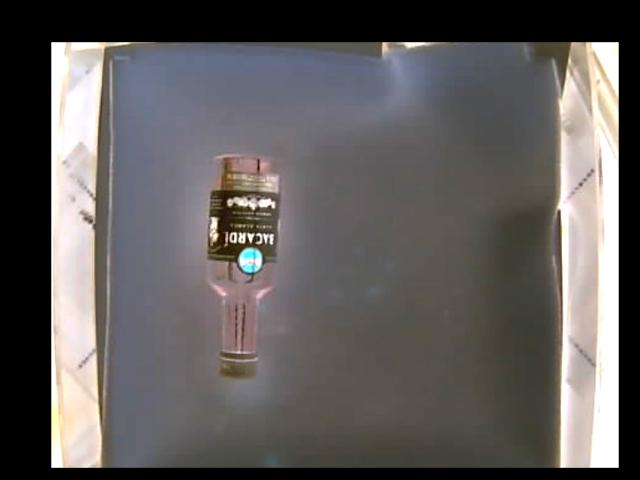Bottle: (201, 153, 282, 380)
